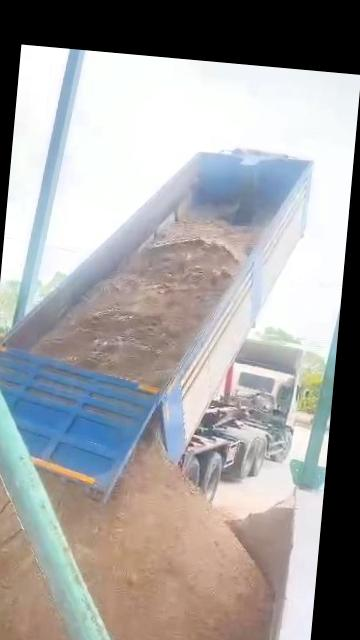sand: (43, 445, 270, 640), (33, 220, 260, 386), (0, 453, 72, 640), (230, 497, 291, 595), (144, 404, 167, 449)
